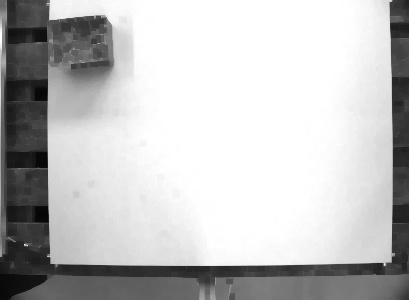klts: (45, 13, 116, 72)
